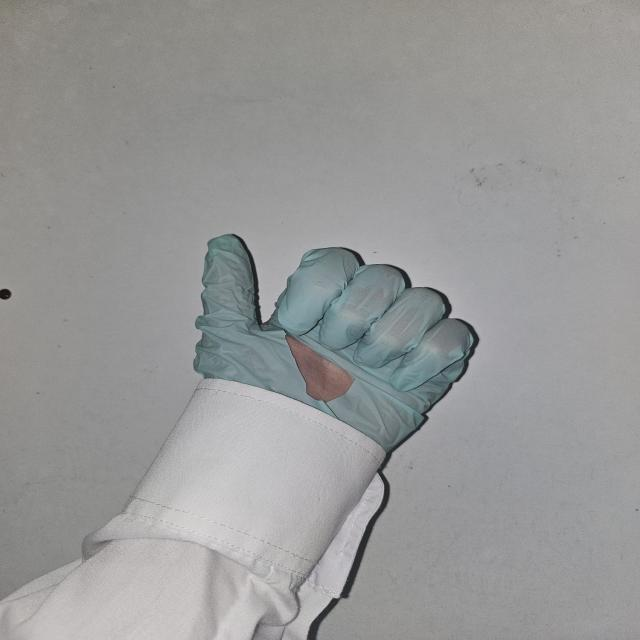gloves_damaged: (193, 230, 482, 454)
